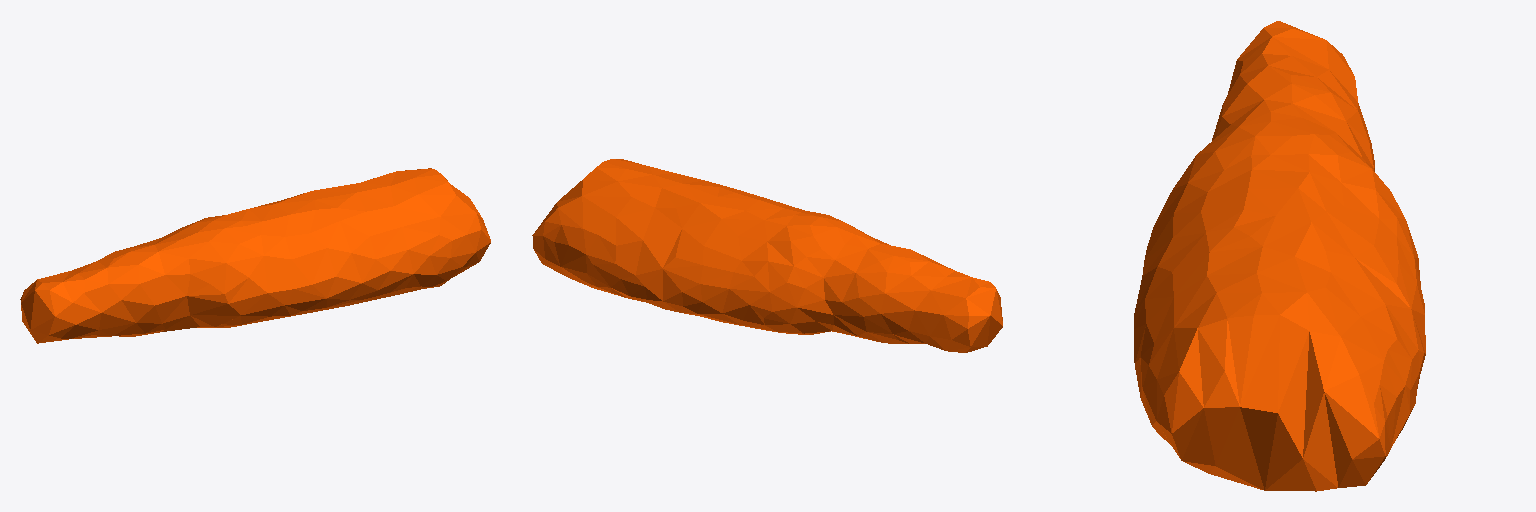
robot.urdf — off_water_body:
<?xml version="1.0" ?>
<robot name="off_water_body">
   <material name="obj_color">
      <color rgba="1.0 0.423529411765 0.0392156862745 1.0"/>
   </material>
   <link name="top">
      <inertial>
         <origin rpy="3.097258186722538e-05 0.0002374714168253315 0.0002471939853516289" xyz="0.005149170368172368 -0.001150775051178058 0.0004218509476493331"/>
         <mass value="0.2049091757100137"/>
         <inertia ixx="3.113860925961905e-05" ixy="5.65122101059628e-06" ixz="1.626607804167373e-06" iyy="0.0002376806637772492" iyz="1.801347179825584e-06" izz="0.0002468187110073176"/>
      </inertial>
      <visual>
         <origin rpy="0 0 0" xyz="0 0 0"/>
         <geometry>
            <mesh filename="top_watertight_tiny.stl" scale="1 1 1"/>
         </geometry>
         <material name="obj_color"/>
      </visual>
      <collision>
         <origin rpy="0 0 0" xyz="0 0 0"/>
         <geometry>
            <mesh filename="top_watertight_tiny.obj" scale="1 1 1"/>
         </geometry>
      </collision>
   </link>
   <link name="bottom">
      <inertial>
         <origin rpy="1.633333333194242e-08 1.633333333194243e-08 1.633333333357667e-08" xyz="0.3464080000000008 0.3464080000000008 0.3464080000000008"/>
         <mass value="0.0009800000000000017"/>
         <inertia ixx="1.633333333248717e-08" ixy="5.447480642029219e-19" ixz="5.447480642029219e-19" iyy="1.633333333248717e-08" iyz="5.447480642029219e-19" izz="1.633333333248717e-08"/>
      </inertial>
      <visual>
         <origin rpy="0 0 0" xyz="0 0 0"/>
         <geometry>
            <mesh filename="bottom_watertight_tiny.stl" scale="1 1 1"/>
         </geometry>
         <material name="obj_color"/>
      </visual>
   </link>
   <link name="world"/>
   <joint name="world_to_base" type="fixed">
      <origin xyz="0 0 0"/>
      <axis xyz="0 0 0"/>
      <parent link="world"/>
      <child link="bottom"/>
   </joint>
   <joint name="rotation" type="revolute">
      <origin xyz="0 0 0"/>
      <axis xyz="0 0 -1"/>
      <parent link="bottom"/>
      <child link="top"/>
      <dynamics damping="1.0" friction="1.0"/>
      <limit effort="0.1" velocity="0.1" lower="0" upper="0.001"/>
   </joint>
</robot>

--- Facts derived from the render (not from the file) ---
The picture shows the robot from 3 angles, left to right: view 1: azimuth 30°, elevation 25°; view 2: azimuth 150°, elevation 25°; view 3: azimuth 270°, elevation 25°; orthographic projection.
Robot: off_water_body — 3 links, 2 joints (1 revolute, 1 fixed); root link world; default pose: all joints at 0.
Links seen in each view (by area): view 1: top; view 2: top; view 3: top.
Boxes of the visible links, x1,y1,x2,y2 form: top: (20,168,490,343); top: (532,159,1002,352); top: (1134,21,1425,491).
Size in the robot's own frame: 0.1401 by 0.0466 by 0.0331 metres.
Meshes: 2 distinct files referenced, 1 mesh visuals loaded (1 binary STL); not drawn: 1 (reference not matched to a file when rendering).